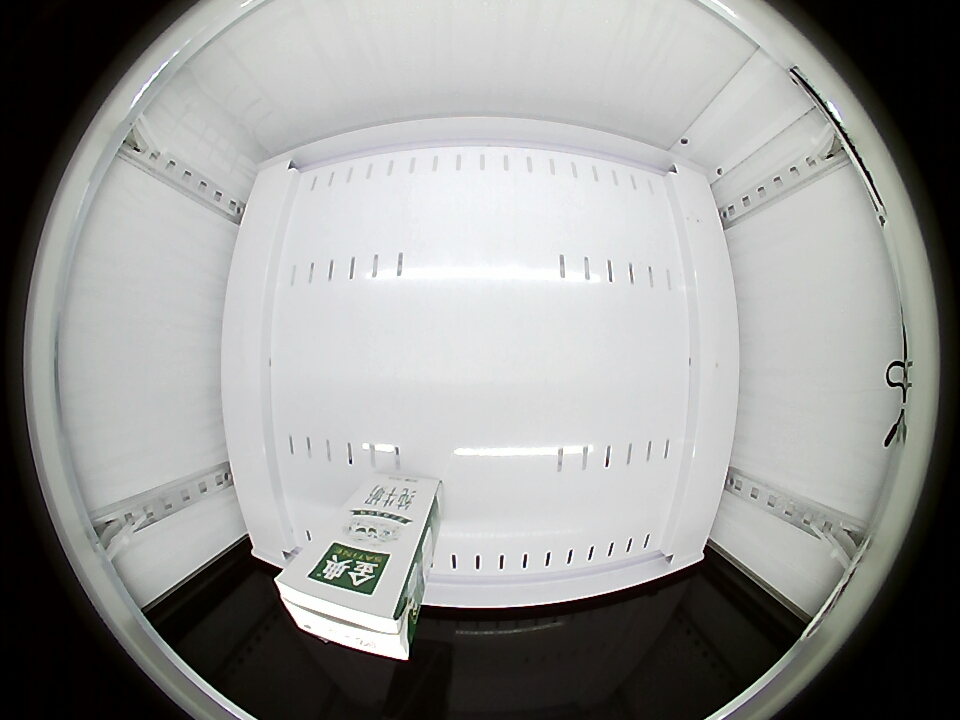jindian: (275, 548, 417, 662)
